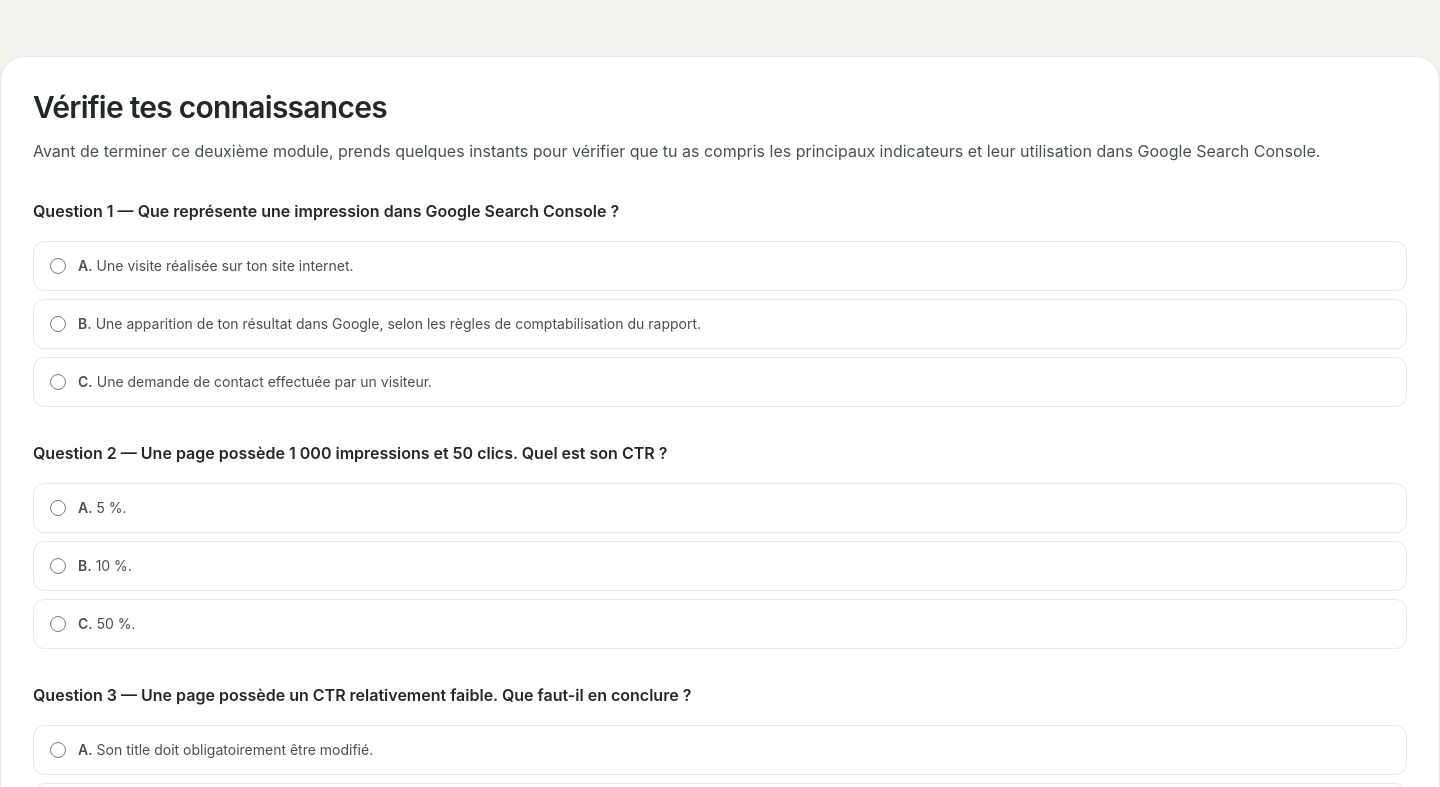
questionnaire de la sixième leçon SEO › corrige les quatre questions après validation
The width and height of the screenshot is (1440, 787).
Expected: the text "Question 4 : A." is not shown
Click the radio button named "quiz-question-1" at (58, 324), box [50, 316, 66, 332]
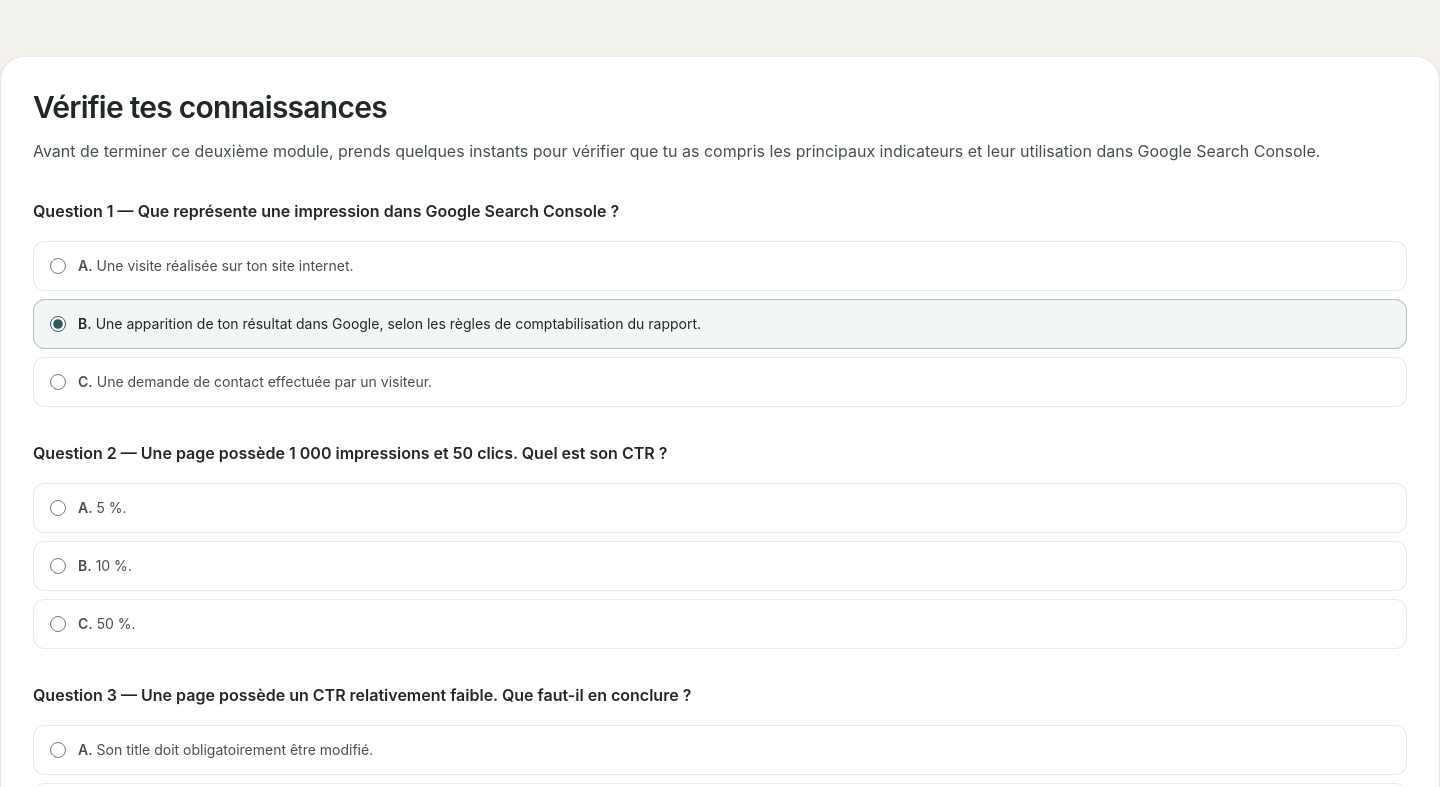
Click the radio button named "quiz-question-2" at (58, 508), box [50, 500, 66, 516]
(page scrolled)
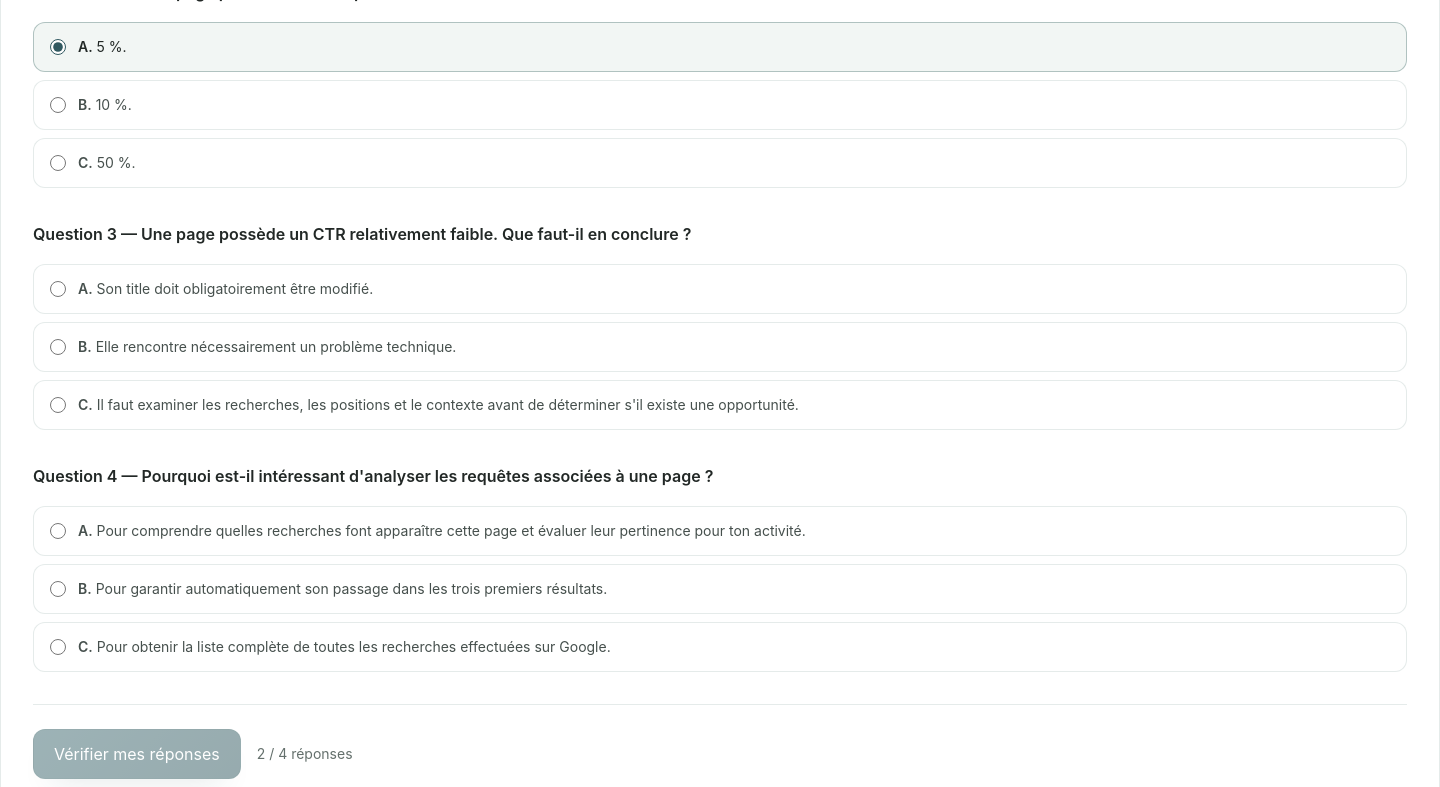
Click the radio button named "quiz-question-3" at (58, 405), box [50, 397, 66, 413]
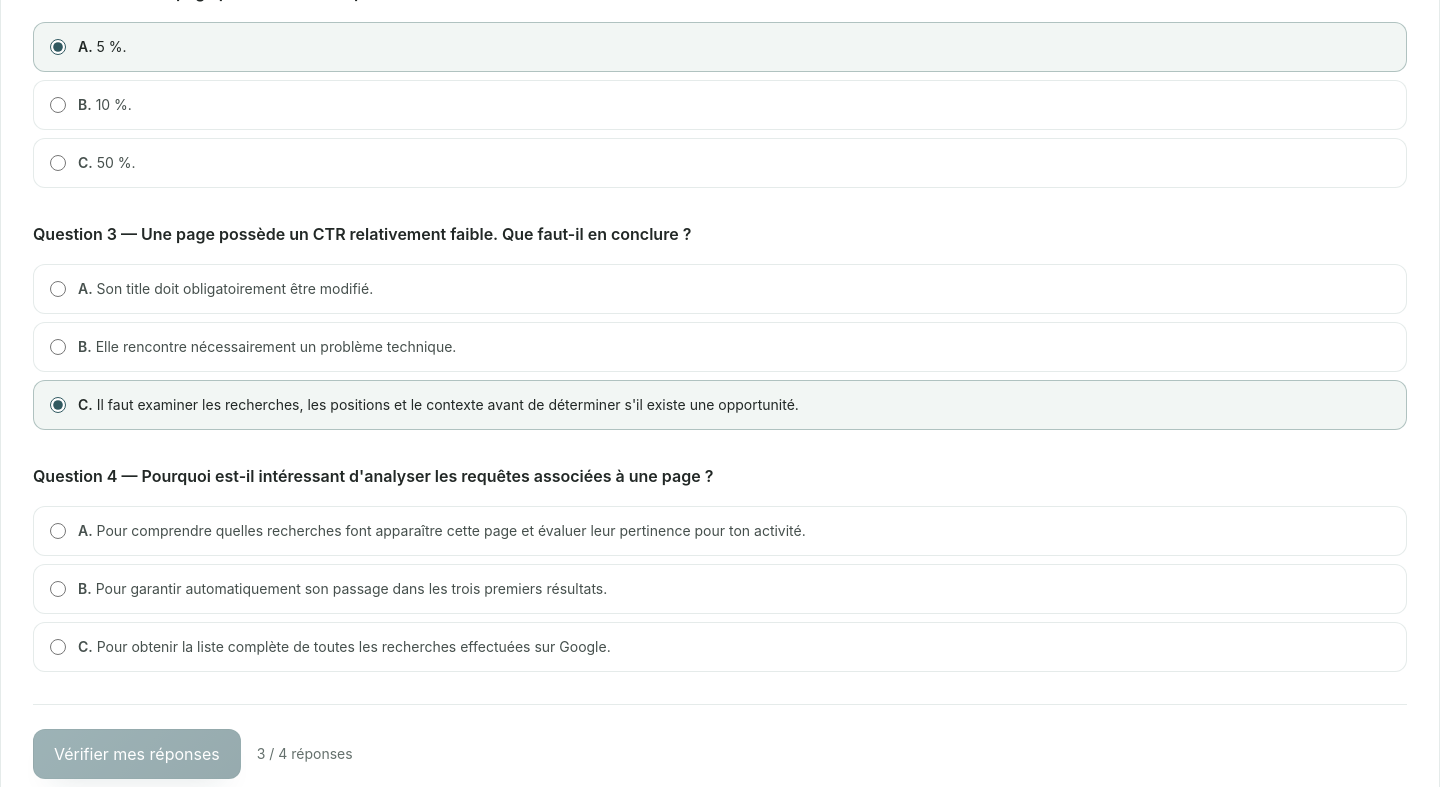
Click the radio button named "quiz-question-4" at (58, 531), box [50, 523, 66, 539]
(page scrolled)
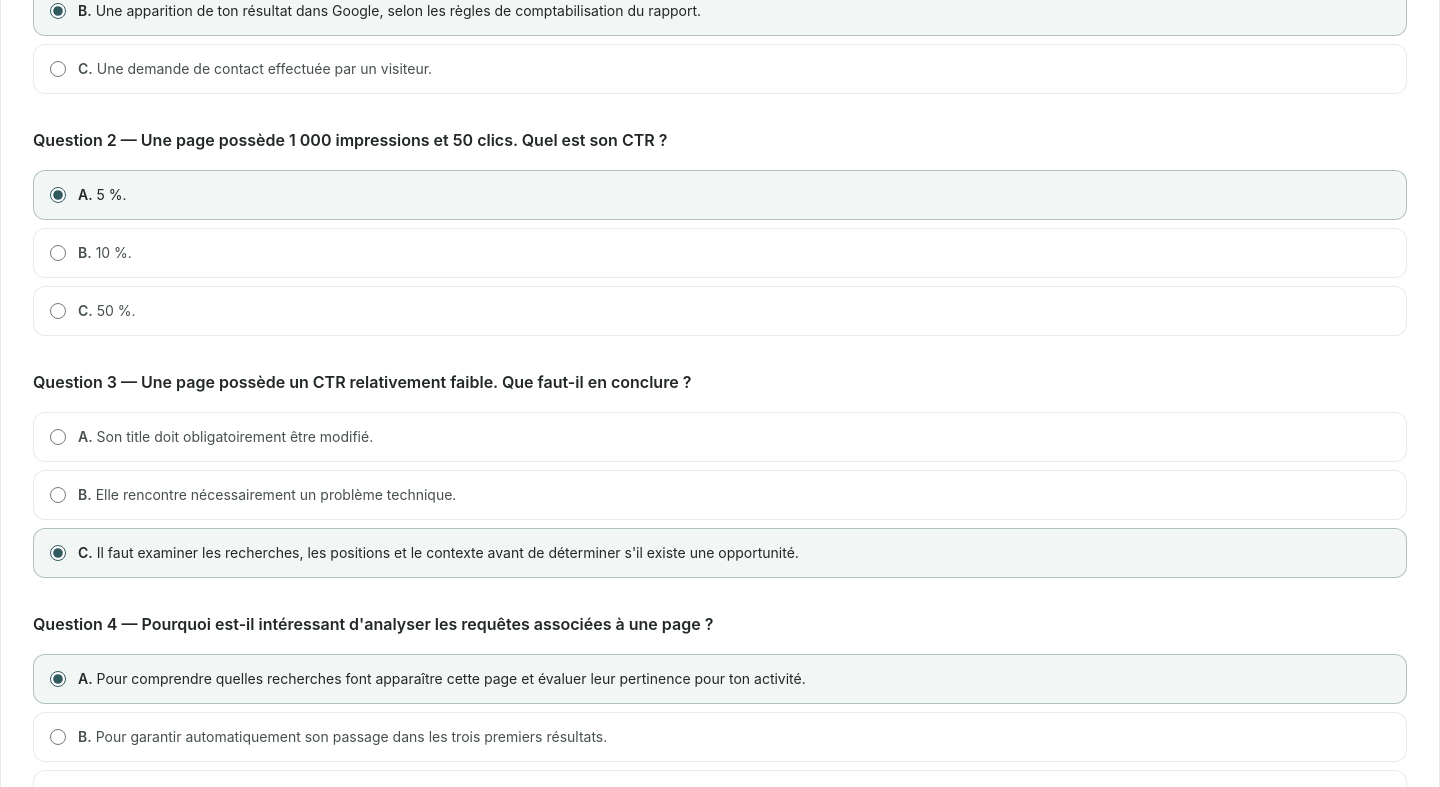
Submit the form
(page scrolled)
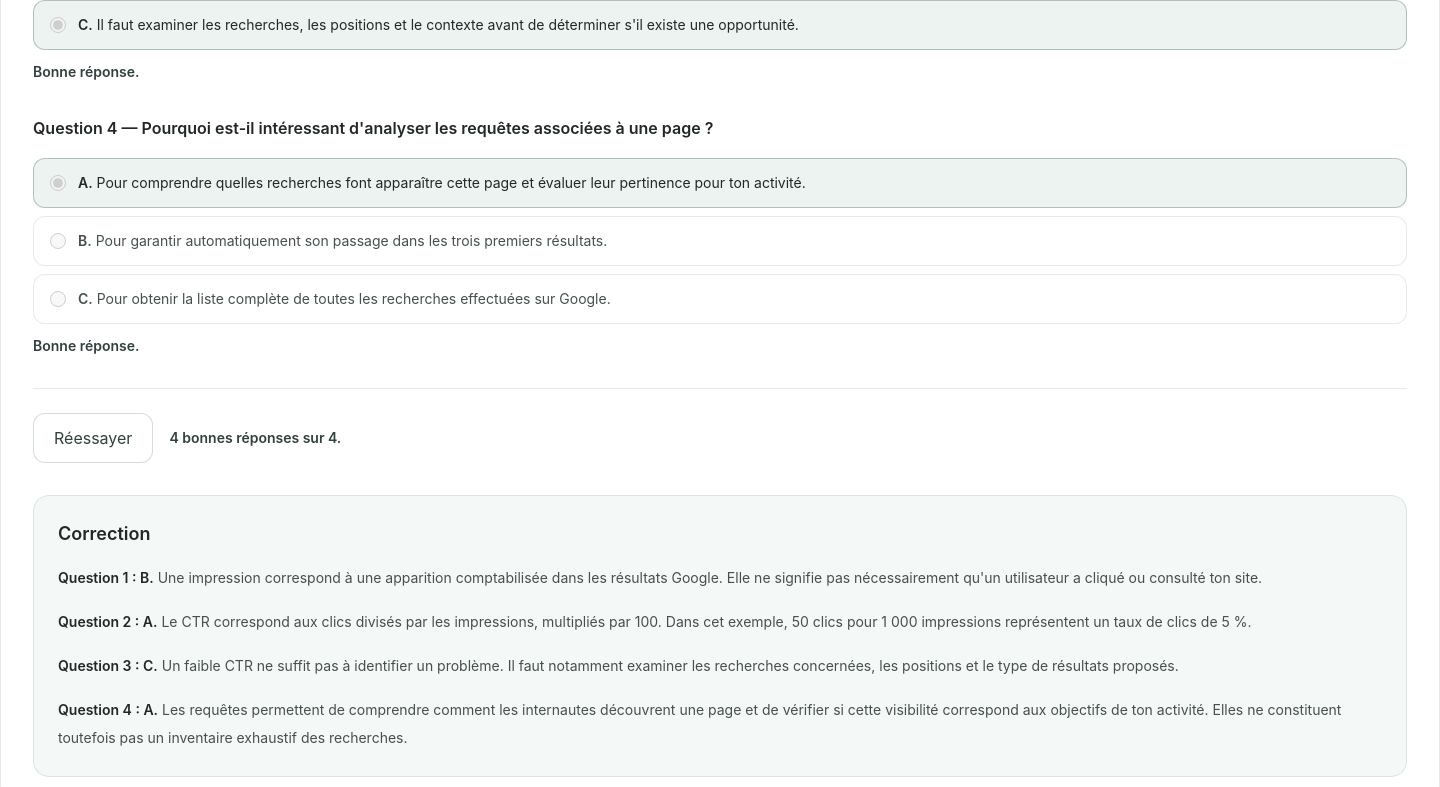
Expected: the message "4 bonnes réponses sur 4." is shown, [169, 428, 341, 448]
Expected: the text "Question 4 : A." is shown, [58, 701, 158, 718]
Expected: the text "Elles ne constituent toutefois pas un inventaire exhaustif" is shown, [58, 701, 1341, 746]
